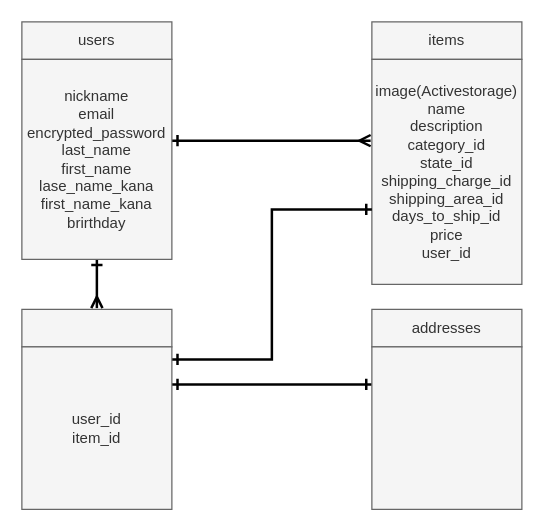
The diagram is 544 pixels wide and 531 high, and some of its shapes have lost their labels. The centre of each missing label's shape, as x and y in pixels:
buyers: point (96, 327)
postal_code prefecture_id city block building_name phone_number buyer_id: point (446, 427)
